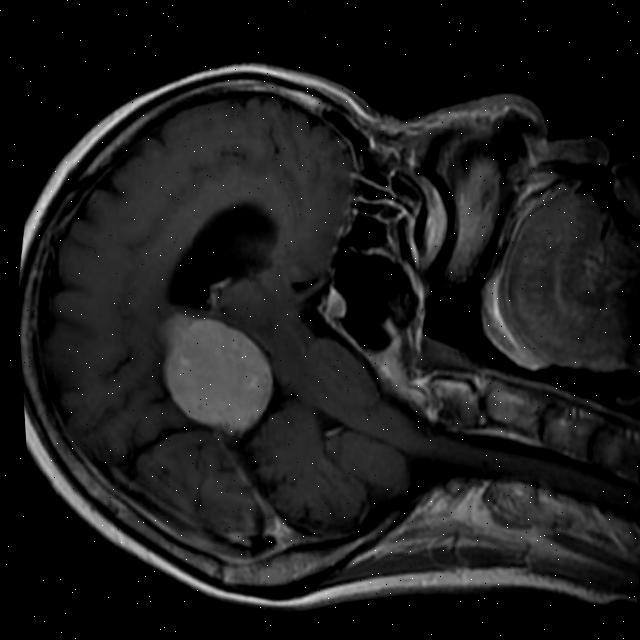Meningioma: (142, 305, 287, 443)
